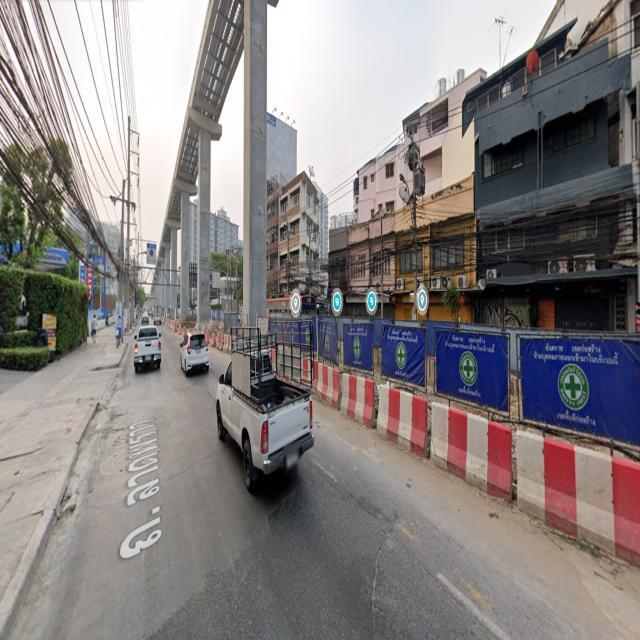fallen_object: (294, 338, 640, 562)
